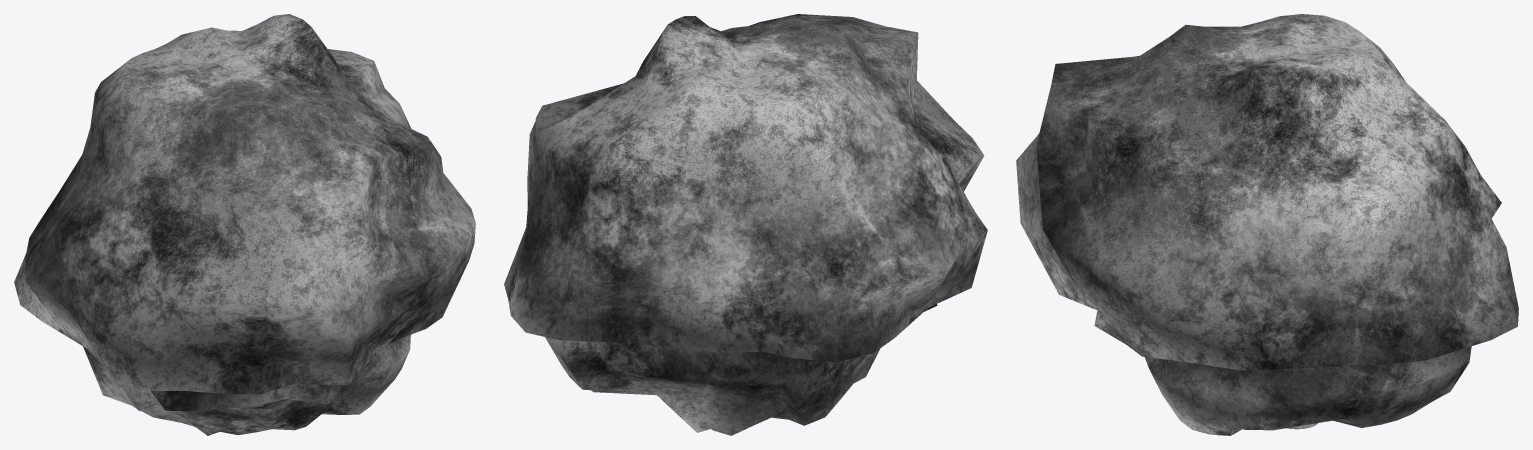
Rendered from Meteoroid01c.fbx.
3 renders of one model, left to right at view 1: azimuth 30°, elevation 25°; view 2: azimuth 150°, elevation 25°; view 3: azimuth 270°, elevation 25°, orthographic. The views are drawn at different scales.
Visible parts, largest first — view 1: Meteoroid01c; view 2: Meteoroid01c; view 3: Meteoroid01c.
Part boxes in pixels (left/top/right/bottom): Meteoroid01c: left=14, top=14, right=475, bottom=435; Meteoroid01c: left=504, top=14, right=987, bottom=435; Meteoroid01c: left=1016, top=14, right=1518, bottom=435.
Bounding box in the file's own units: 348 × 316 × 376.
